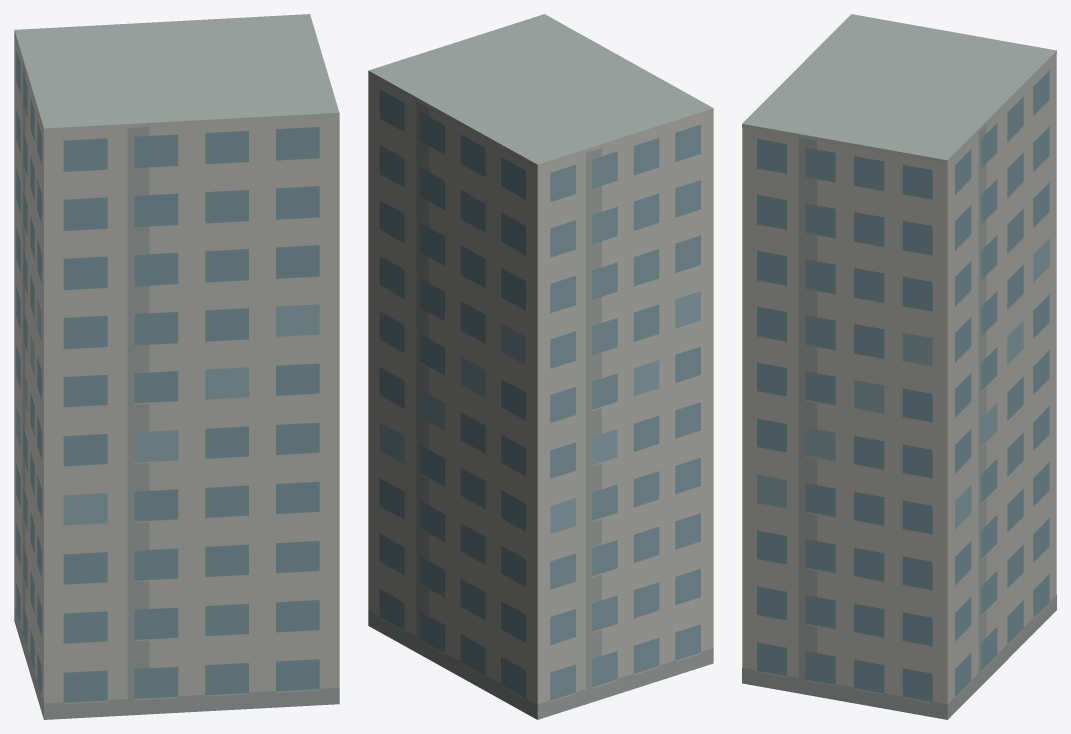
Rendered from residential-f00a7e7b-86aa-4c87-98d6-5b402b02f6b1.glb.
3 renders of one model, left to right at view 1: azimuth 30°, elevation 25°; view 2: azimuth 150°, elevation 25°; view 3: azimuth 270°, elevation 25°, orthographic. The views are drawn at different scales.
Parts seen in each view (by area): view 1: residential-f00a7e7b-86aa-4c87-98d6-5b402b02f6b1.tmp; view 2: residential-f00a7e7b-86aa-4c87-98d6-5b402b02f6b1.tmp; view 3: residential-f00a7e7b-86aa-4c87-98d6-5b402b02f6b1.tmp.
Part boxes in pixels (x1,y1,x2,y2): residential-f00a7e7b-86aa-4c87-98d6-5b402b02f6b1.tmp: [14, 14, 339, 719]; residential-f00a7e7b-86aa-4c87-98d6-5b402b02f6b1.tmp: [368, 14, 713, 719]; residential-f00a7e7b-86aa-4c87-98d6-5b402b02f6b1.tmp: [742, 14, 1056, 719].
Bounding box in the file's own units: 20.2 × 36 × 18.36.
